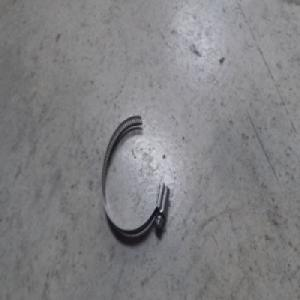AdjustableClamp: (98, 114, 168, 236)
